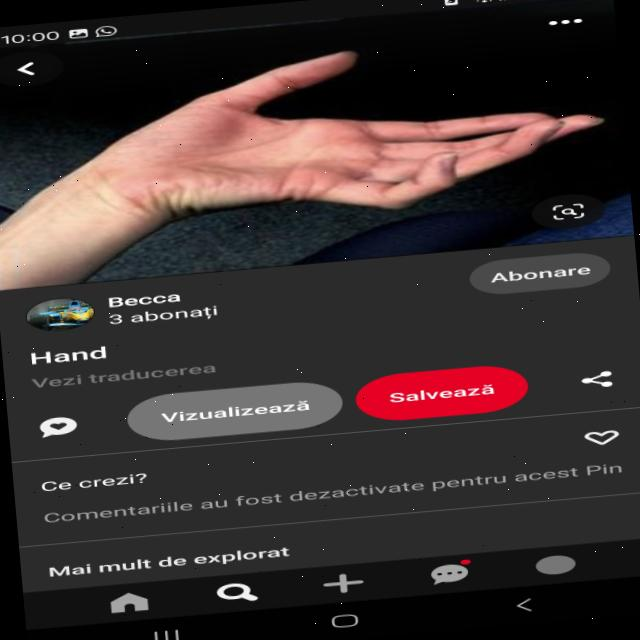hands: (70, 4, 624, 272)
